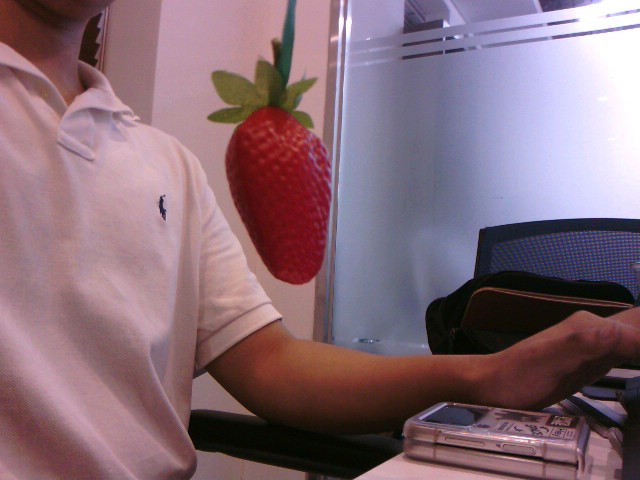strawberry: (215, 91, 335, 286)
